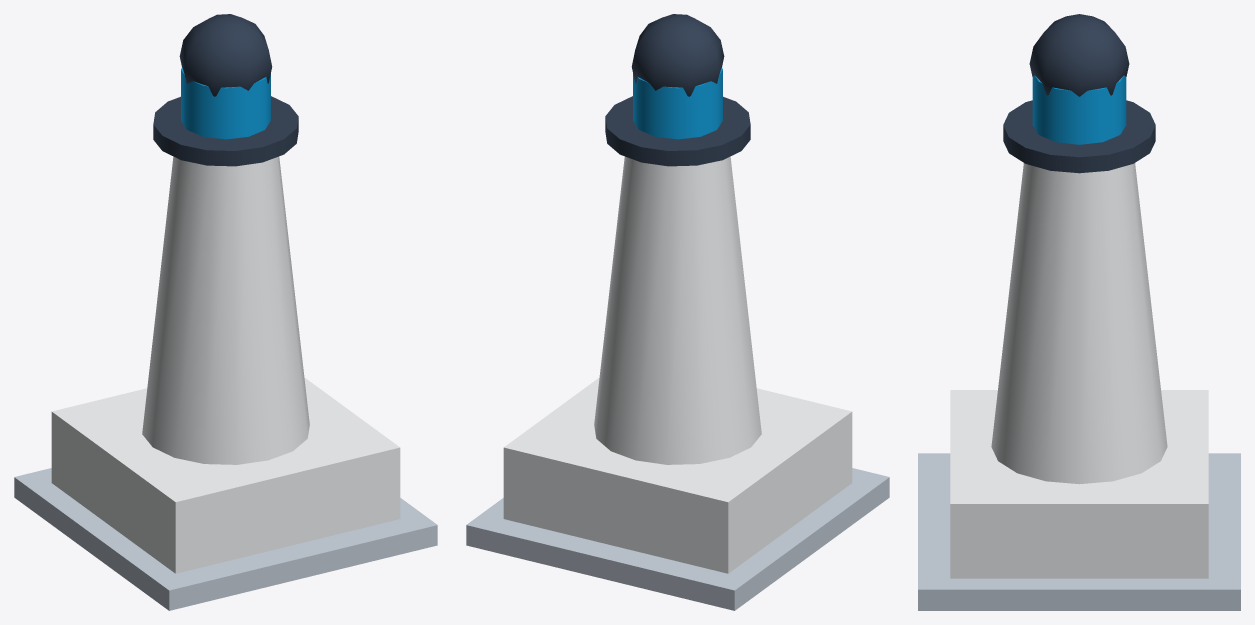
File: bld_c3_cell_9.glb
3 renders of one model, left to right at view 1: azimuth 30°, elevation 25°; view 2: azimuth 150°, elevation 25°; view 3: azimuth 270°, elevation 25°, orthographic. The views are drawn at different scales.
Visible parts, largest first — view 1: Bld_C3_Cell_9_BespokeLandmark; view 2: Bld_C3_Cell_9_BespokeLandmark; view 3: Bld_C3_Cell_9_BespokeLandmark.
Part boxes in pixels (left/top/right/bottom): Bld_C3_Cell_9_BespokeLandmark: left=14, top=14, right=437, bottom=610; Bld_C3_Cell_9_BespokeLandmark: left=466, top=14, right=889, bottom=610; Bld_C3_Cell_9_BespokeLandmark: left=918, top=14, right=1240, bottom=610.
Size of the model in its own units: 0.55 by 0.985 by 0.55.
